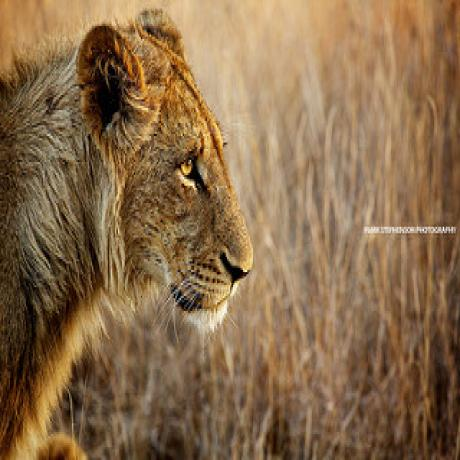Lion: (0, 0, 256, 460)
